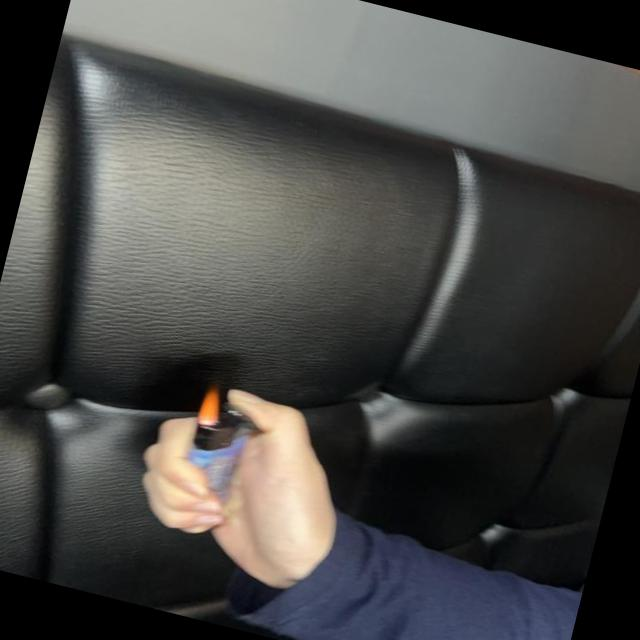Fire: (195, 383, 227, 432)
